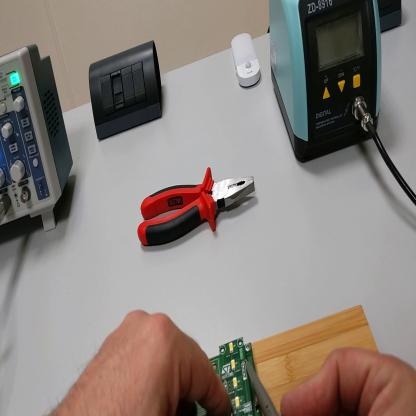hand: (45, 310, 233, 415), (281, 347, 416, 415)
low voltage board: (196, 338, 263, 415)
oscilloscope: (2, 36, 75, 241)
oscilloscope probe tip: (247, 363, 279, 416)
pliers: (138, 168, 257, 248)
socket: (379, 1, 404, 37)
welder station: (270, 2, 384, 163)
working area: (257, 300, 382, 413)
